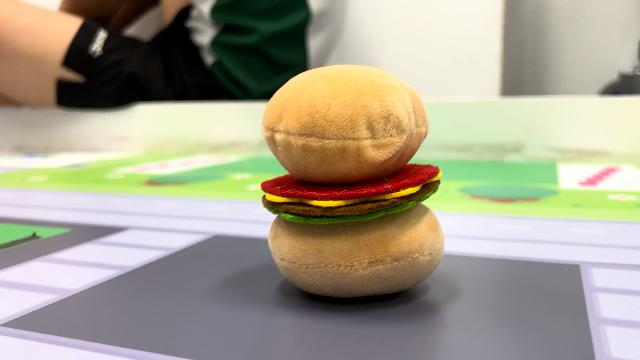burger: (254, 60, 451, 300)
